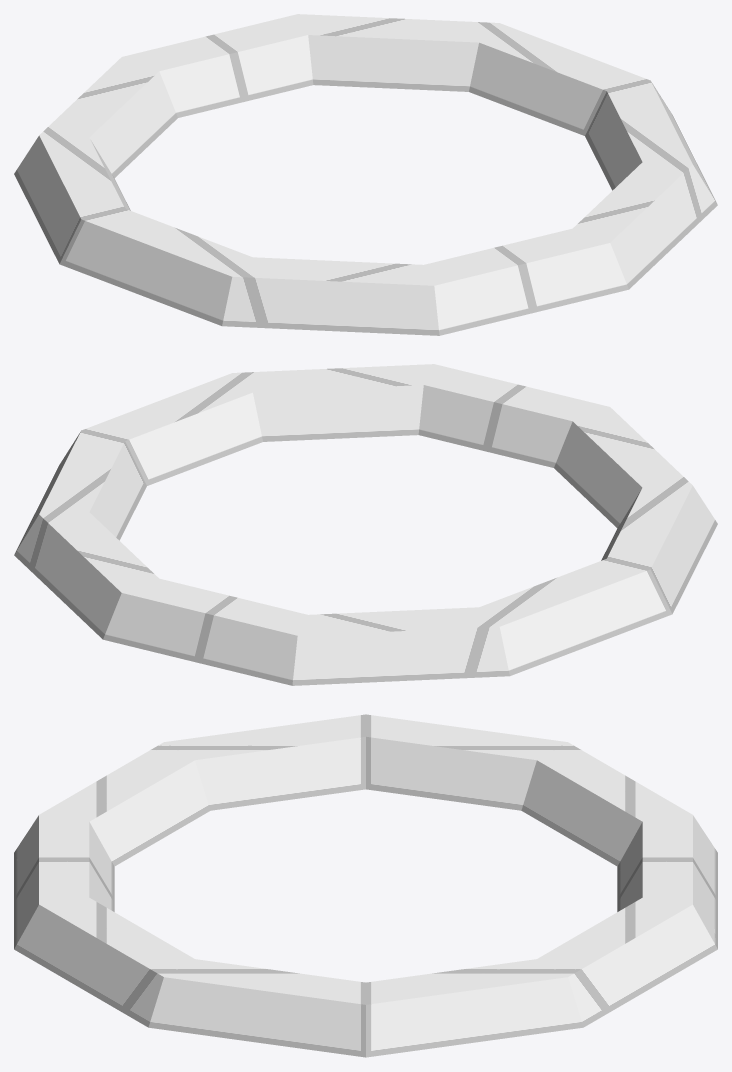
File: LevelObj5.fbx
3 views of the same model, one above another, from view 1: azimuth 30°, elevation 25°; view 2: azimuth 150°, elevation 25°; view 3: azimuth 270°, elevation 25° (orthographic). The views are drawn at different scales.
Parts seen in each view (by area): view 1: Torus; view 2: Torus; view 3: Torus.
Part boxes in pixels (box(x1,y1,x2,y2)): Torus: box(14, 14, 717, 335); Torus: box(14, 364, 717, 685); Torus: box(14, 714, 717, 1057).
Size of the model in its own units: 280 by 17.32 by 266.
